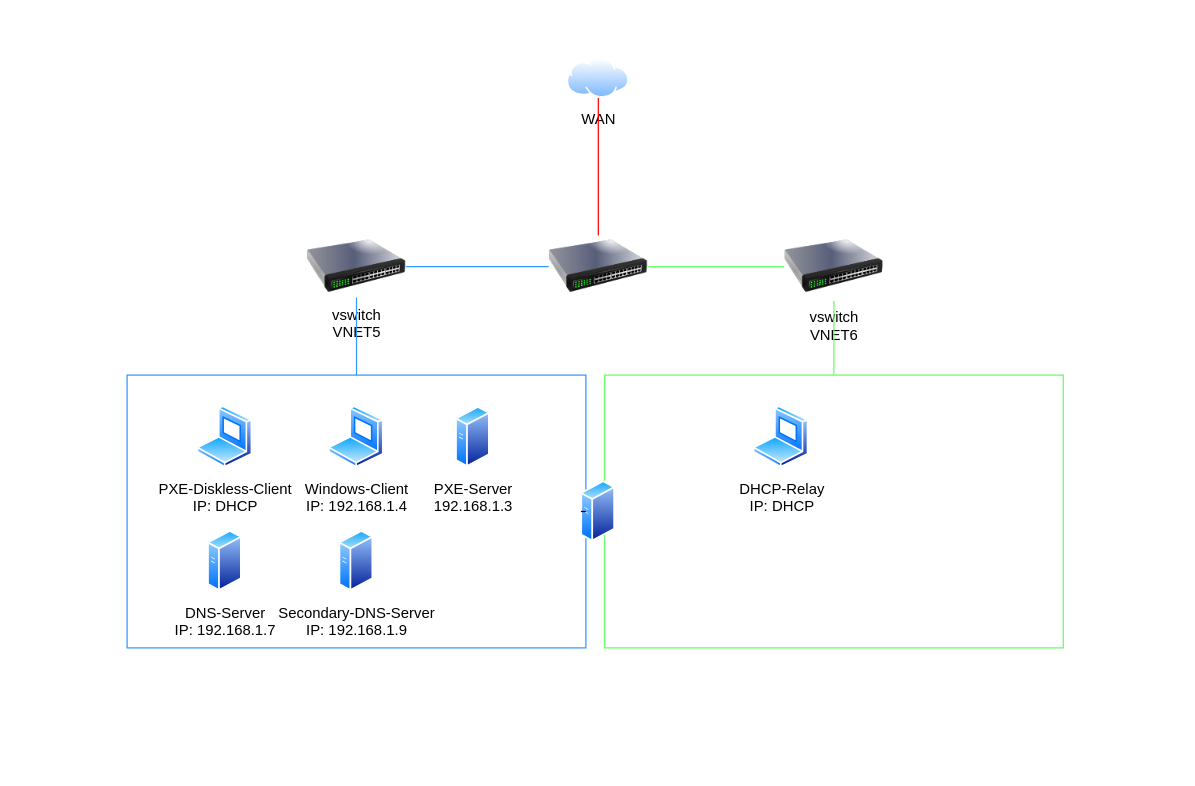
Some shapes in this 1195 by 786 pixel diagram are drawn without their labels. Each missing label, with the centre of its shape:
DHCP-Server 192.168.1.2 192.168.2.1: the point at 597,511
vswitch NAT: the point at 597,266
